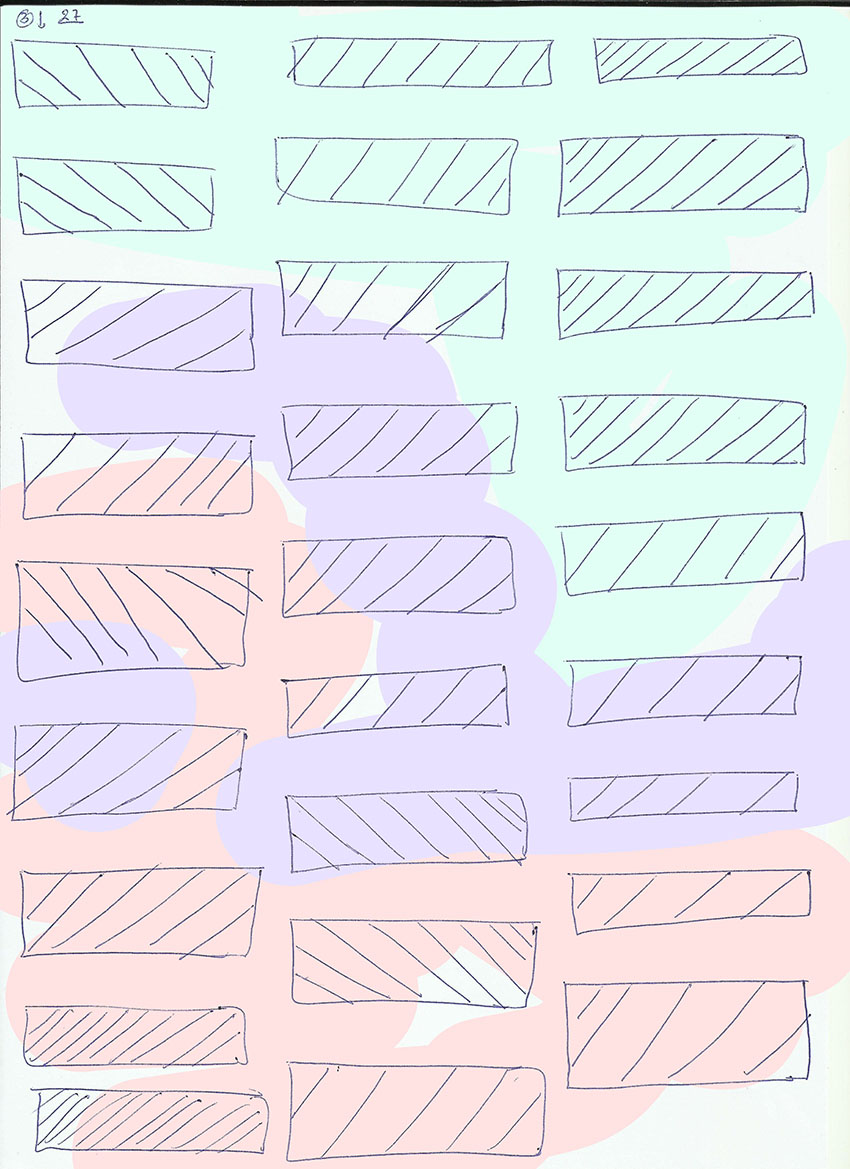frame: (11, 558, 264, 684), (560, 977, 816, 1092), (281, 1056, 548, 1162), (285, 912, 544, 1015), (6, 719, 254, 822), (16, 275, 258, 375), (551, 508, 812, 600), (17, 866, 264, 962), (267, 131, 525, 221), (280, 785, 532, 875), (18, 429, 257, 523), (556, 134, 812, 219), (273, 255, 512, 344), (557, 392, 811, 475), (280, 399, 521, 484), (276, 533, 519, 616), (556, 267, 817, 341), (277, 661, 514, 741), (26, 1084, 274, 1159), (560, 653, 804, 729), (8, 150, 217, 236), (564, 867, 817, 937), (7, 34, 218, 117), (282, 34, 556, 92), (21, 1003, 250, 1069), (566, 769, 801, 824), (591, 34, 810, 86)
